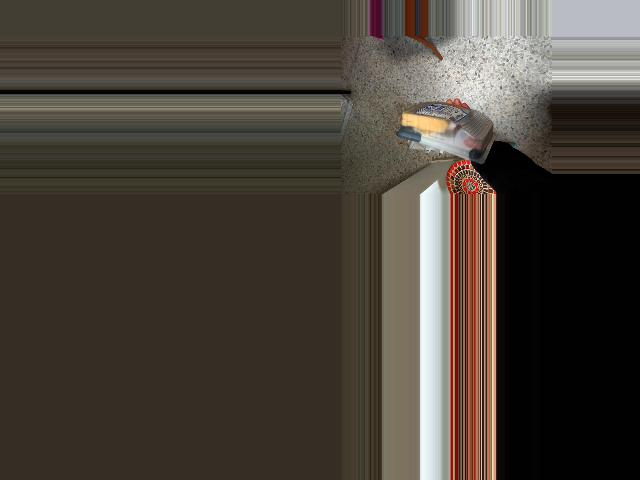cheese: (393, 101, 493, 171)
